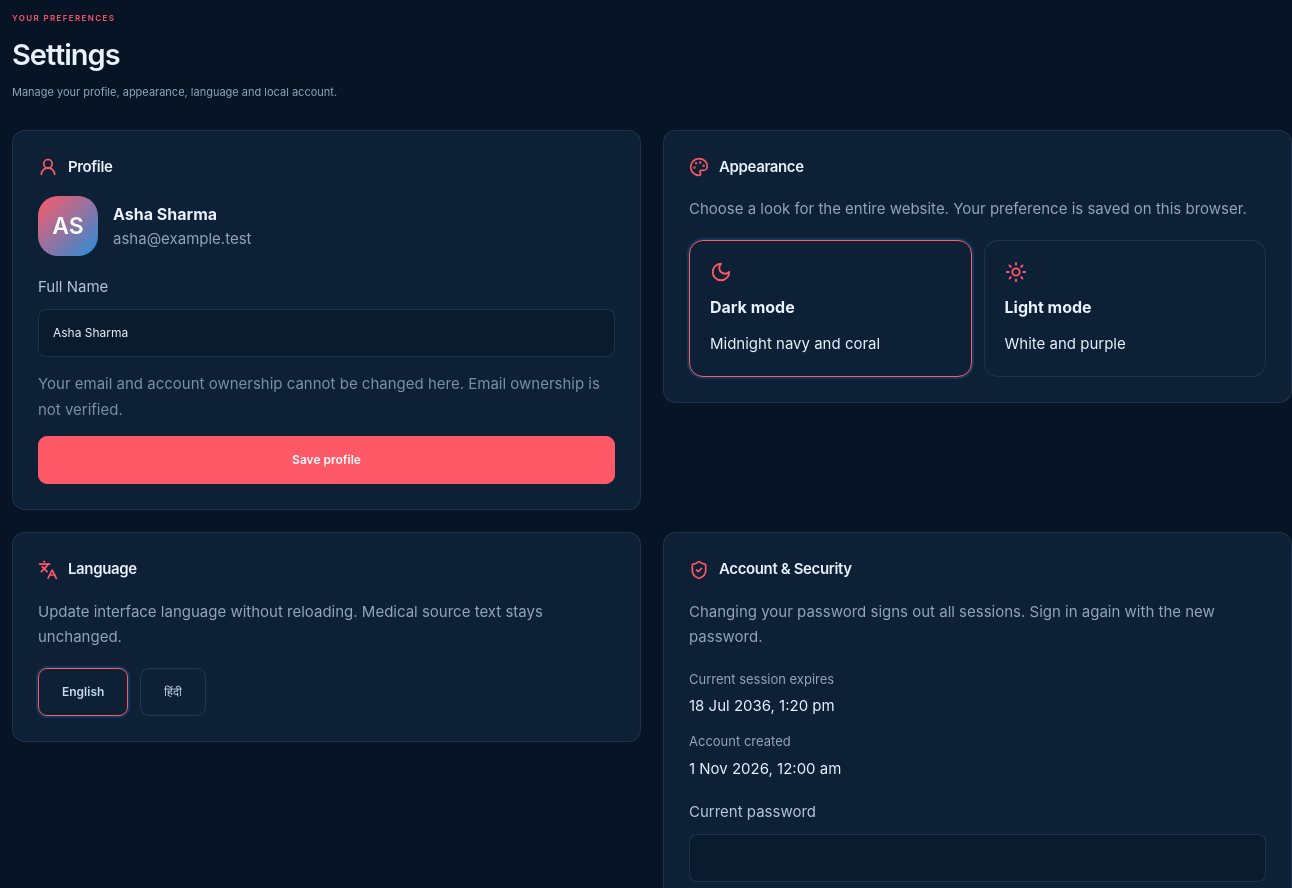
Scenario: renders all settings sections and updates only the display name
Expected: the heading "Profile" is shown, [38,157,112,177]
Expected: the heading "Appearance" is shown, [689,157,804,177]
Step 1. Replace the text in the field labelled "Full Name" with "Asha Updated" → x=326, y=333, box [38,309,615,357]
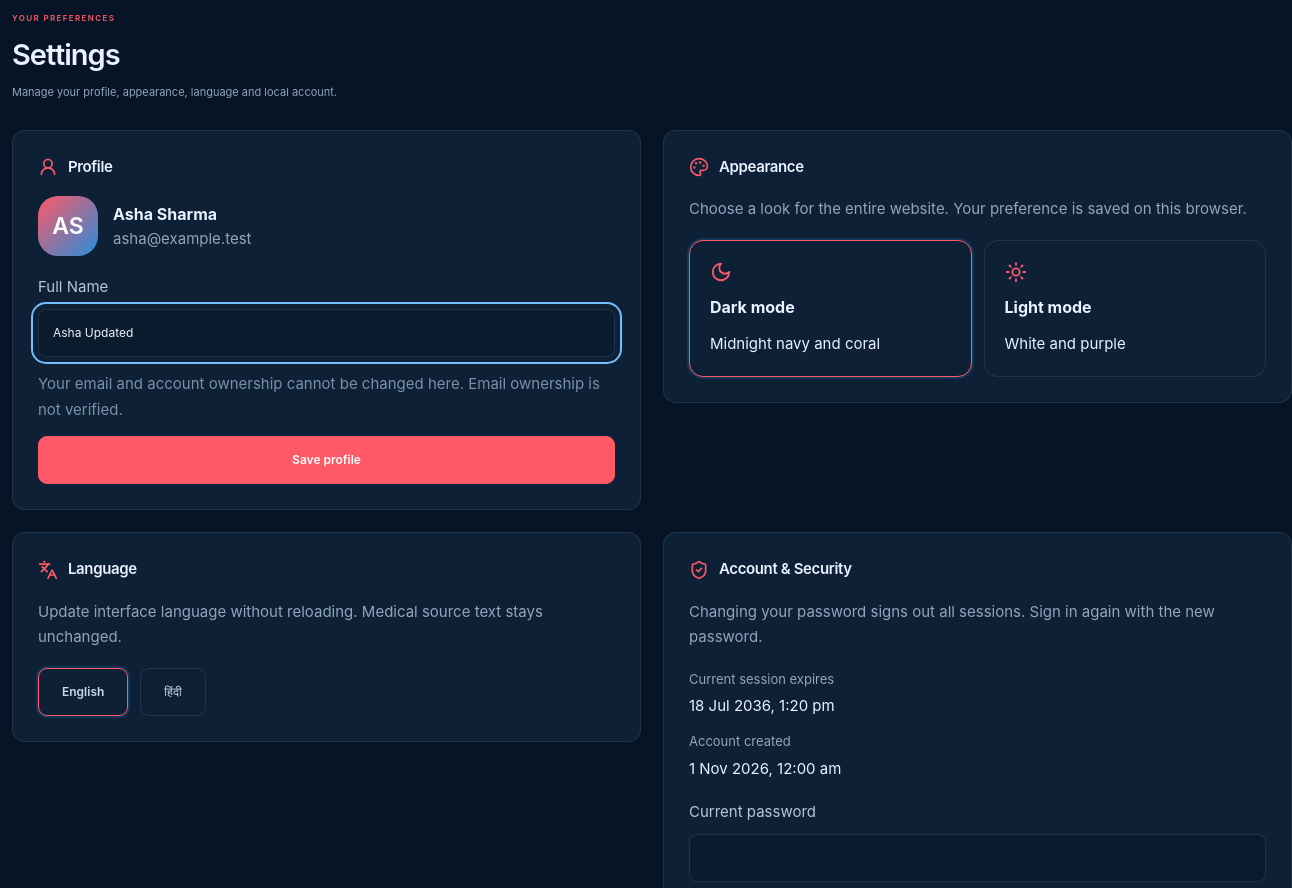
Step 2. Click the button "Save profile" → x=326, y=460, box [38,436,615,484]
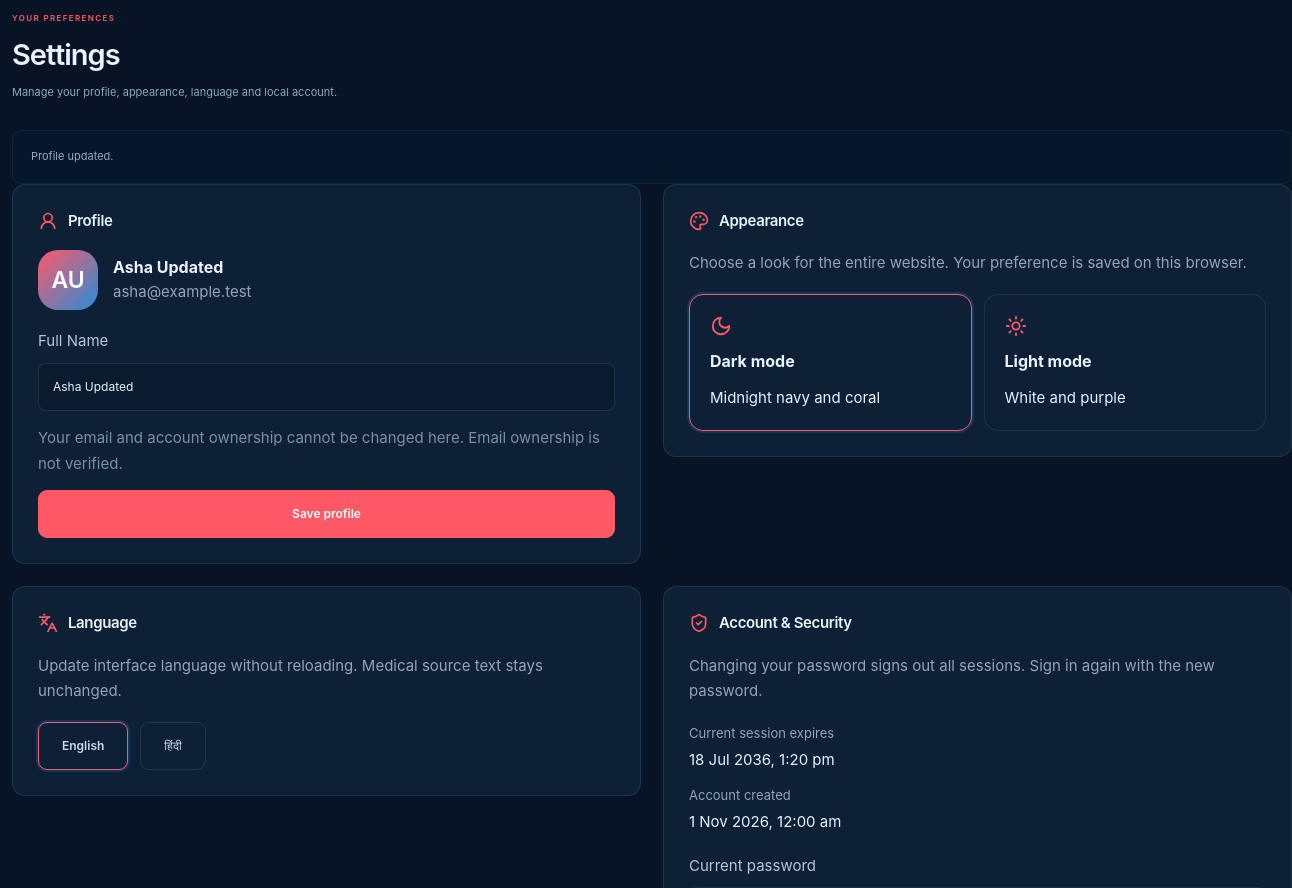
Expected: the text "asha@example.test" is shown, [113,280,252,305]
Expected: the text "Profile updated." is shown, [12,130,1291,184]
